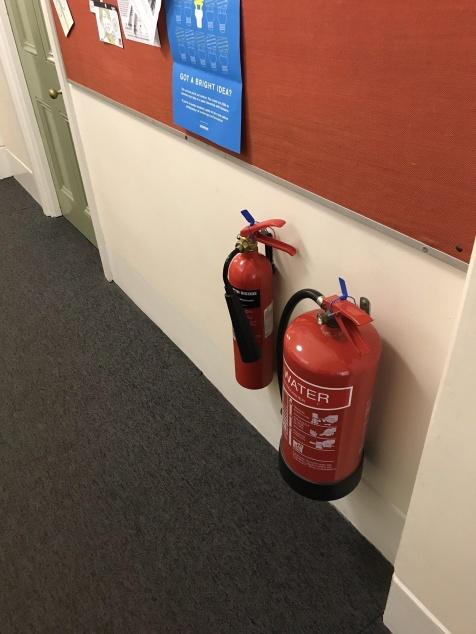APAR: (277, 292, 382, 503), (228, 218, 295, 389)
